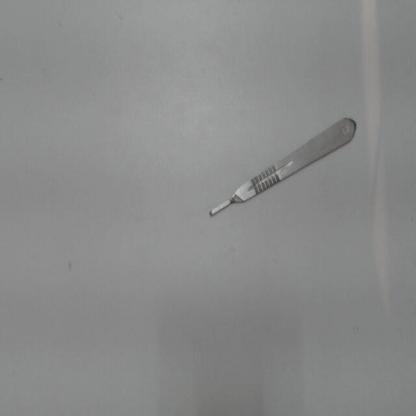No.3 BP Handle: (207, 104, 368, 229)
